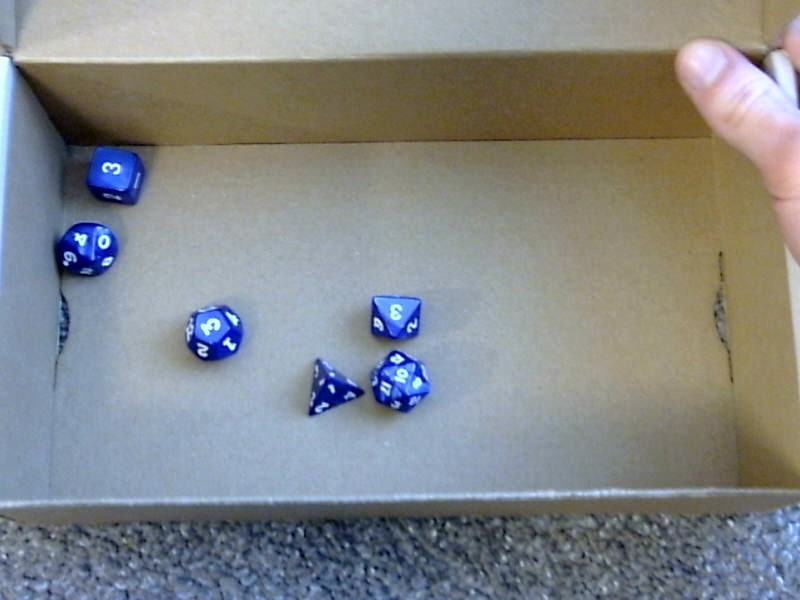d10 4: (52, 223, 122, 278)
d12 3: (179, 300, 250, 364)
d20 10: (370, 351, 430, 414)
d4 1: (305, 353, 363, 419)
d6 3: (83, 145, 147, 208)
d8 3: (365, 286, 425, 342)
